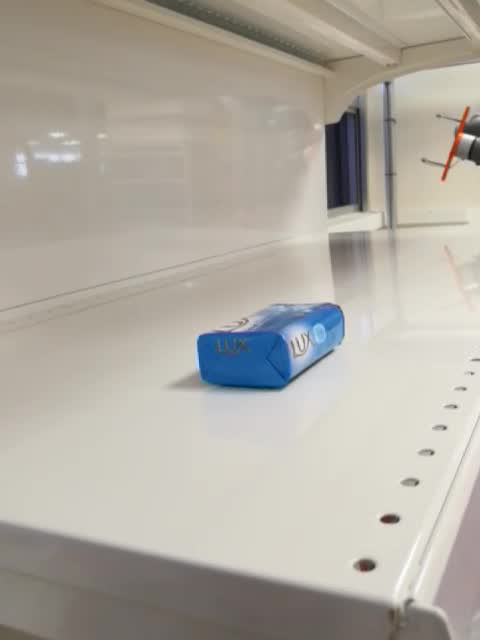soap: (196, 301, 347, 392)
